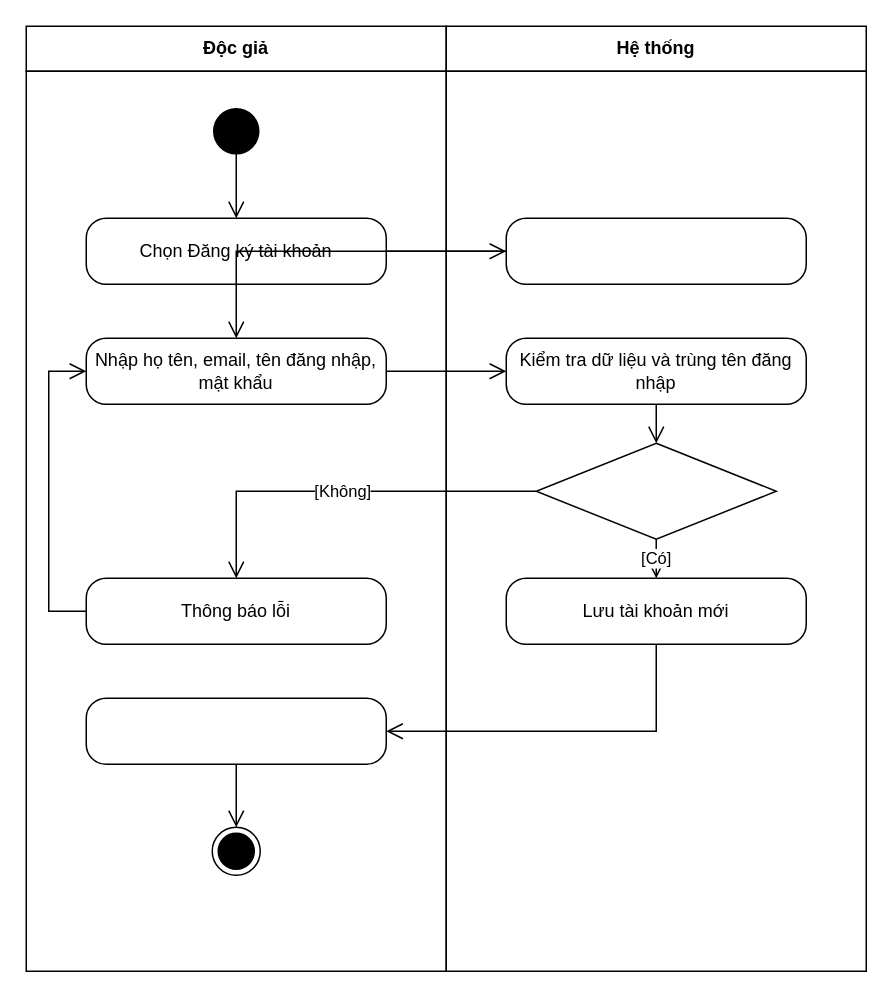
This 893x998 diagram has some shape labels left out. Here are the shapes that lost their labels. From the top down, the centre of each, then its label:
At [655,250]: "Hiển thị form đăng ký".
At [655,490]: "Hợp lệ?".
At [235,730]: "Nhận thông báo đăng ký thành công".
